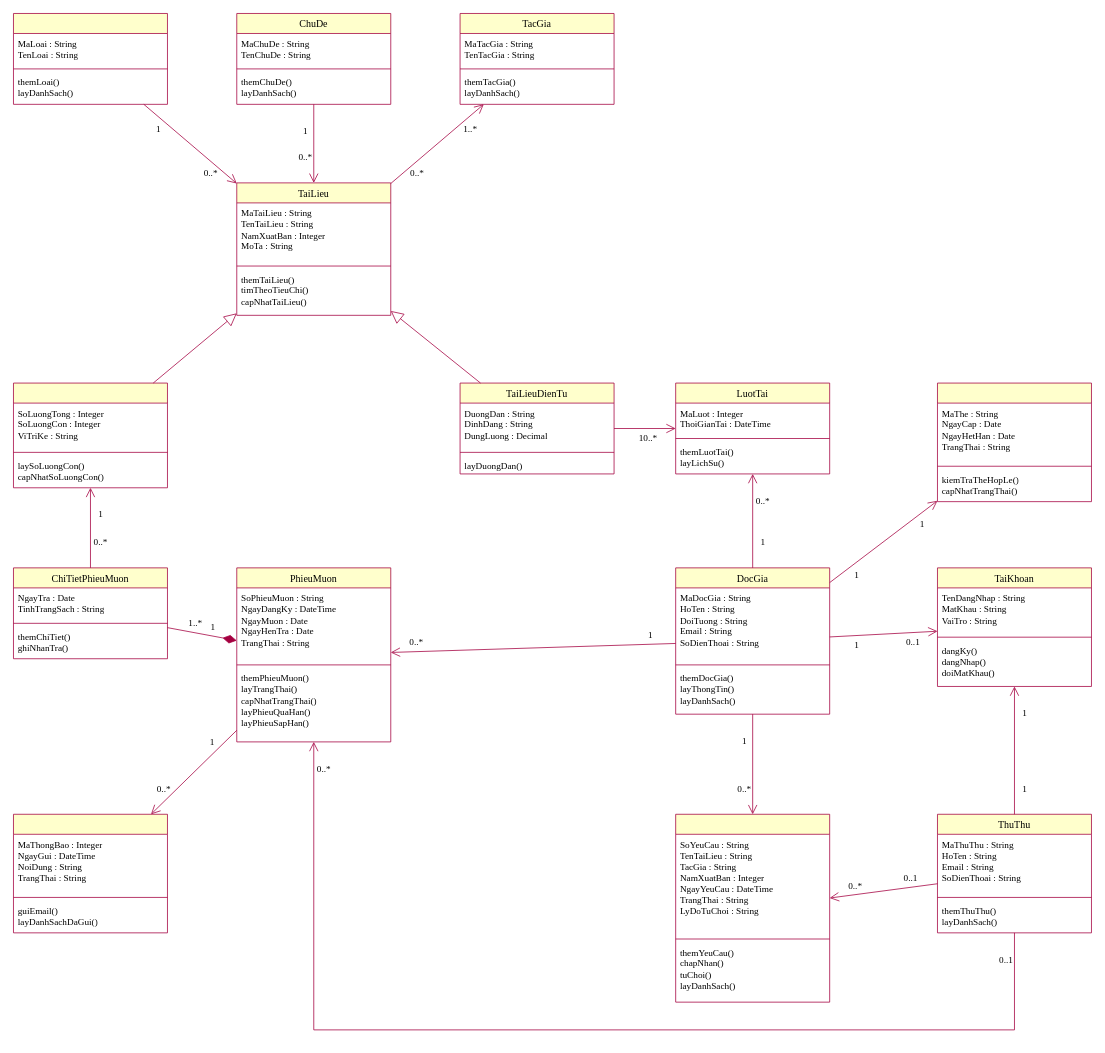
The diagram is 1105 pixels wide and 1053 high, and some of its shapes have lost their labels. Here are the shapes that lost their labels. From the top down, the box of each, then its label:
(13, 13, 167, 104): LoaiTaiLieu
(13, 382, 167, 488): SachIn
(937, 382, 1091, 502): TheThuVien
(13, 814, 167, 933): ThongBaoNhacHan
(675, 814, 830, 1002): YeuCauMua
